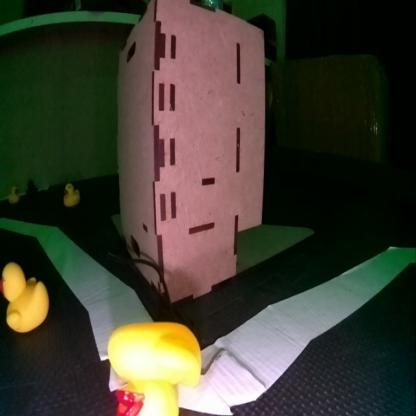Duckie: (108, 322, 198, 414), (3, 262, 48, 333), (63, 183, 80, 205), (7, 185, 20, 203)
